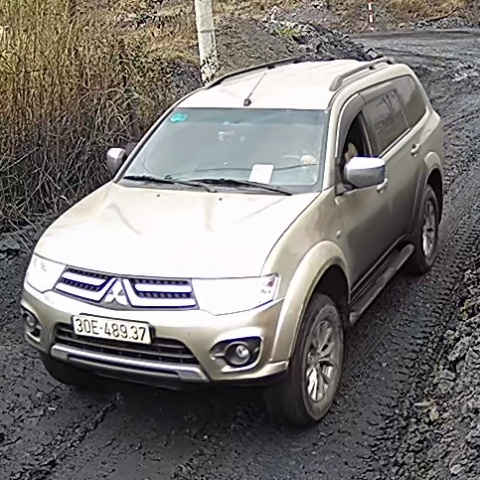vehicle plate: (66, 305, 154, 344)
